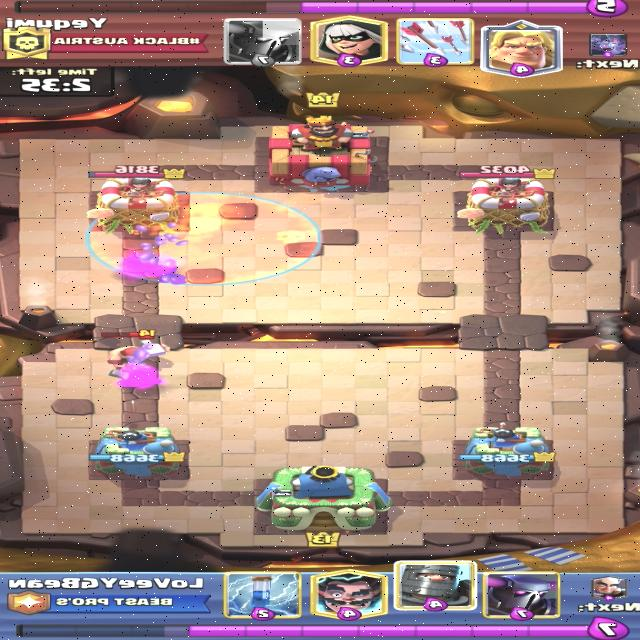Enemy-Lumberjack: (100, 329, 166, 376)
Player-Poision: (85, 193, 319, 285)
